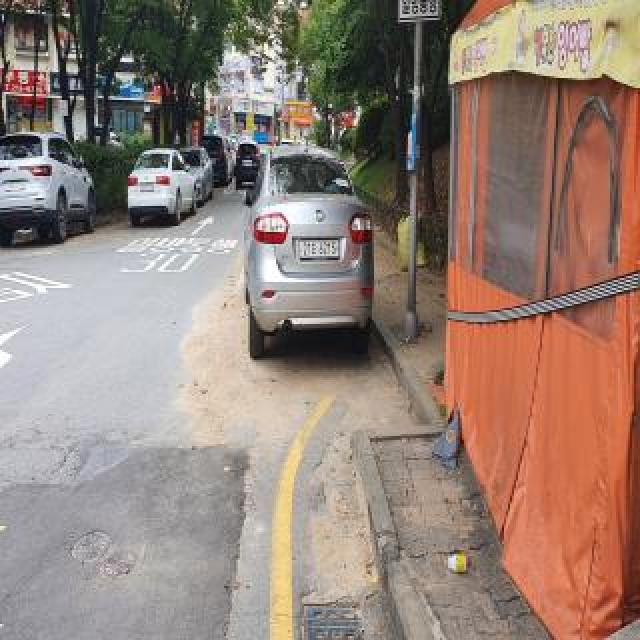car: (238, 136, 383, 372)
illegal_plate: (294, 238, 347, 260)
